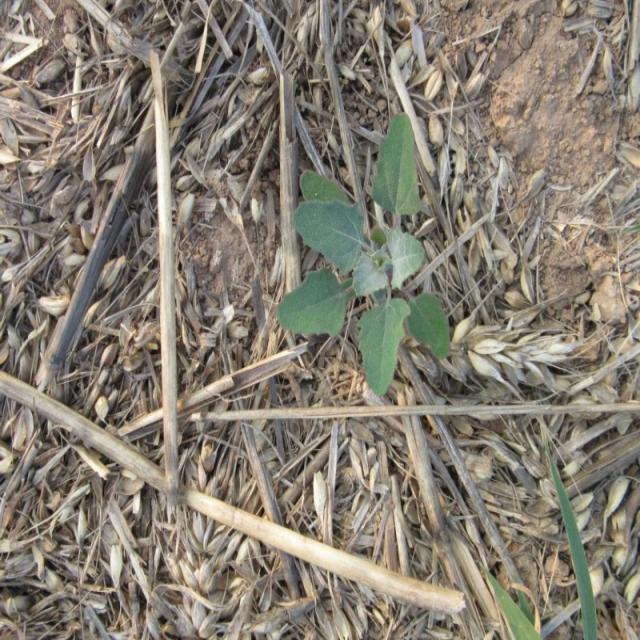ca: (276, 112, 456, 395)
